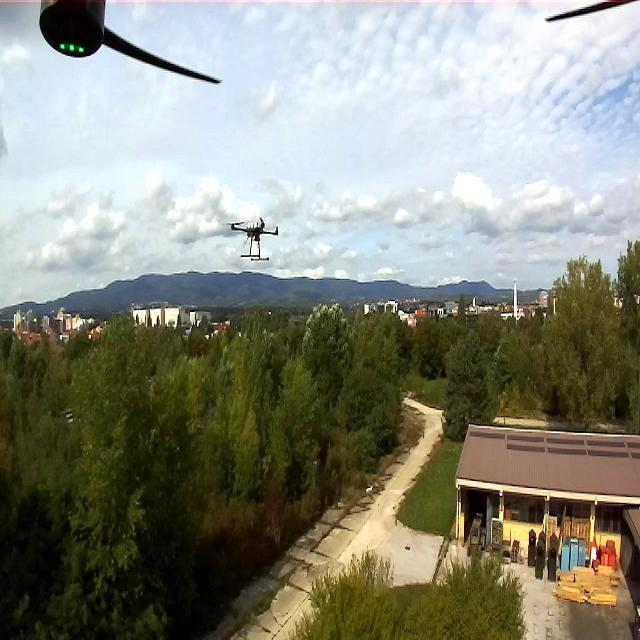drone: (226, 212, 280, 266)
